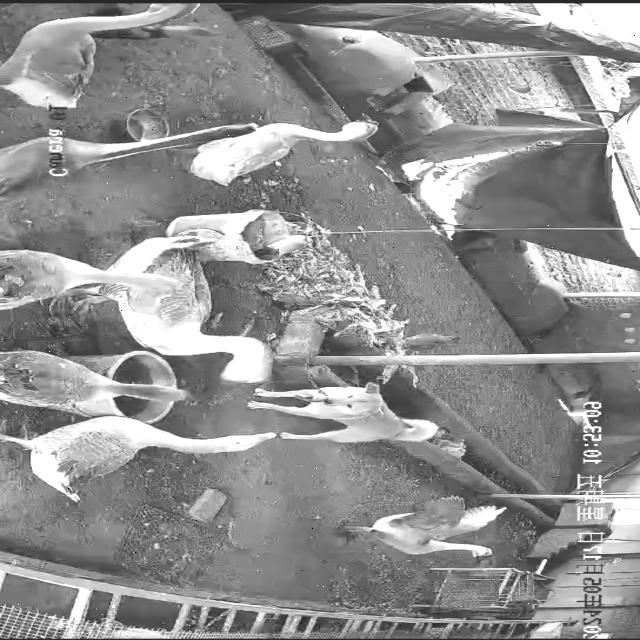dog: (247, 382, 441, 444)
